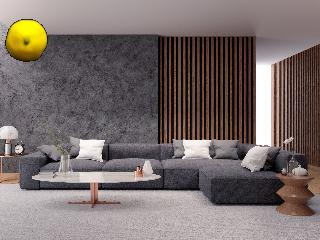lemon: (7, 21, 48, 62)
